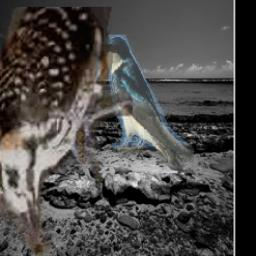Swallow: (98, 36, 195, 168)
Woodpecker: (0, 7, 133, 256)
